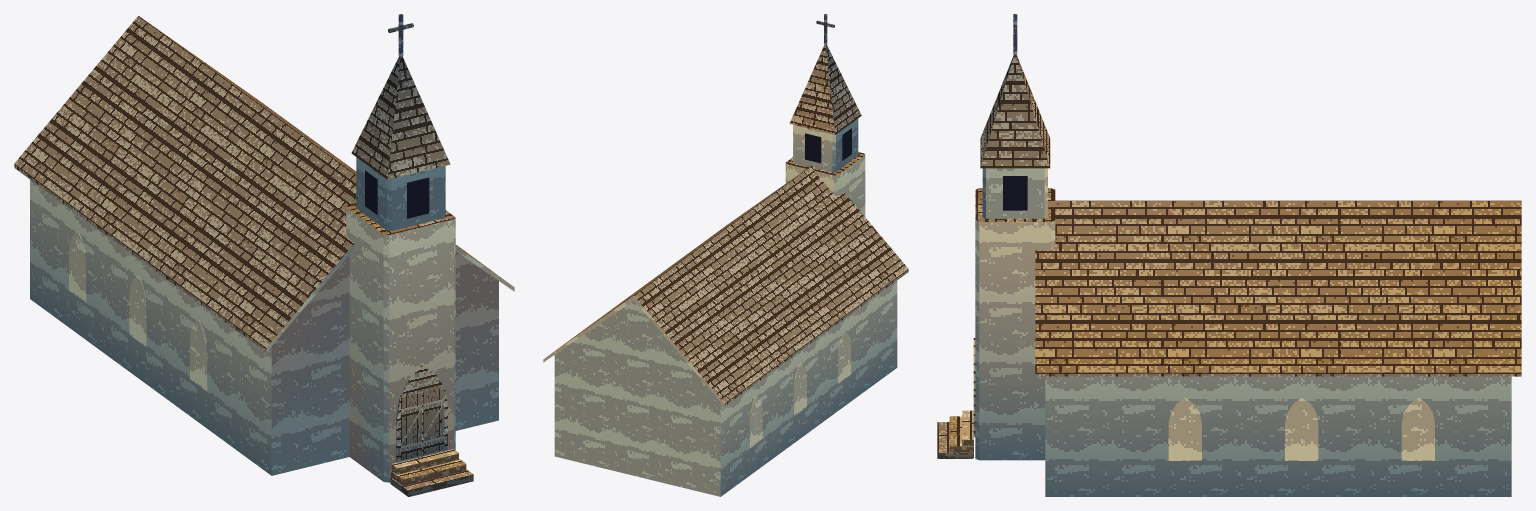
File: wtown.church__wide.glb
The picture shows the model from 3 angles, left to right: view 1: azimuth 30°, elevation 25°; view 2: azimuth 150°, elevation 25°; view 3: azimuth 270°, elevation 25°; orthographic projection. The views are drawn at different scales.
Parts seen in each view (by area): view 1: kit_roof, kit_body, kit_tower, kit_spire, kit_card_panes, kit_belfry, kit_windows, kit_steps, kit_trim; view 2: kit_body, kit_roof, kit_spire, kit_tower, kit_belfry, kit_windows, kit_card_panes; view 3: kit_roof, kit_body, kit_tower, kit_windows, kit_spire, kit_belfry, kit_steps, kit_card_panes.
Part boxes in pixels (box(x1,y1,x2,y2)): kit_roof: box(14, 16, 514, 352); kit_body: box(30, 179, 498, 475); kit_tower: box(346, 203, 455, 482); kit_spire: box(351, 56, 450, 179); kit_card_panes: box(365, 170, 444, 460); kit_belfry: box(356, 157, 445, 230); kit_windows: box(69, 231, 207, 391); kit_steps: box(390, 449, 473, 496); kit_trim: box(396, 365, 447, 462); kit_body: box(554, 281, 897, 496); kit_roof: box(543, 165, 908, 406); kit_spire: box(789, 45, 861, 134); kit_tower: box(785, 152, 865, 216); kit_belfry: box(793, 118, 858, 172); kit_windows: box(749, 331, 850, 448); kit_card_panes: box(805, 128, 851, 163); kit_roof: box(1035, 200, 1521, 376); kit_body: box(1045, 376, 1511, 496); kit_tower: box(975, 188, 1055, 460); kit_windows: box(1168, 397, 1434, 460); kit_spire: box(980, 55, 1050, 168); kit_belfry: box(982, 168, 1047, 218); kit_steps: box(937, 410, 973, 458); kit_card_panes: box(1003, 176, 1027, 210).
Size of the model in its own units: 8.3 by 14.2 by 17.54.
Materials: 9 (9 with a texture image).
